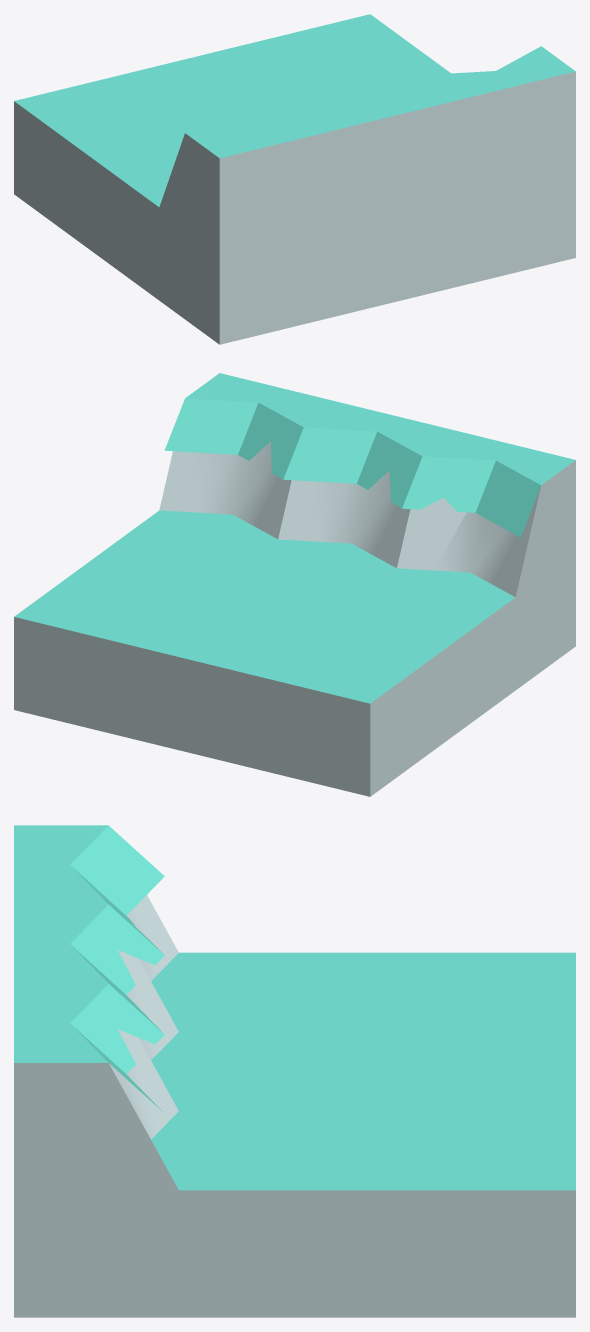
Rendered from cliff_quarter_half_stone.glb.
3 views of the same model, one above another, from view 1: azimuth 30°, elevation 25°; view 2: azimuth 150°, elevation 25°; view 3: azimuth 270°, elevation 25° (orthographic). The views are drawn at different scales.
Parts seen in each view (by area): view 1: cliff_quarter_half_stone; view 2: cliff_quarter_half_stone; view 3: cliff_quarter_half_stone.
Boxes of the visible parts, x1,y1,x2,y2 form: cliff_quarter_half_stone: (14, 14, 575, 344); cliff_quarter_half_stone: (14, 373, 575, 796); cliff_quarter_half_stone: (14, 825, 575, 1317).
Bounding box in the file's own units: 1 × 0.5 × 1.
